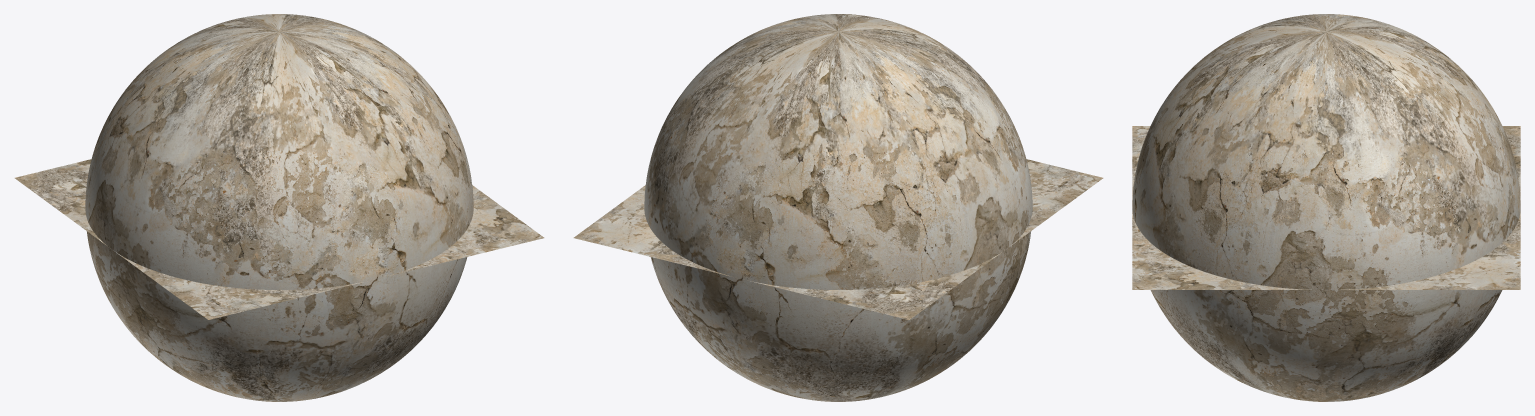
Rendered from cracked_concrete_wall_2k.fbx.
The picture shows the model from 3 angles, left to right: view 1: azimuth 30°, elevation 25°; view 2: azimuth 150°, elevation 25°; view 3: azimuth 270°, elevation 25°; orthographic projection.
Visible parts, largest first — view 1: Sphere, Plane; view 2: Sphere, Plane; view 3: Sphere, Plane.
Part boxes in pixels (x1,y1,x2,y2): Sphere: [85, 14, 473, 401]; Plane: [14, 159, 544, 319]; Sphere: [644, 14, 1032, 401]; Plane: [573, 159, 1103, 319]; Sphere: [1132, 14, 1520, 401]; Plane: [1132, 126, 1520, 289].
Size of the model in its own units: 100 by 100 by 100.
